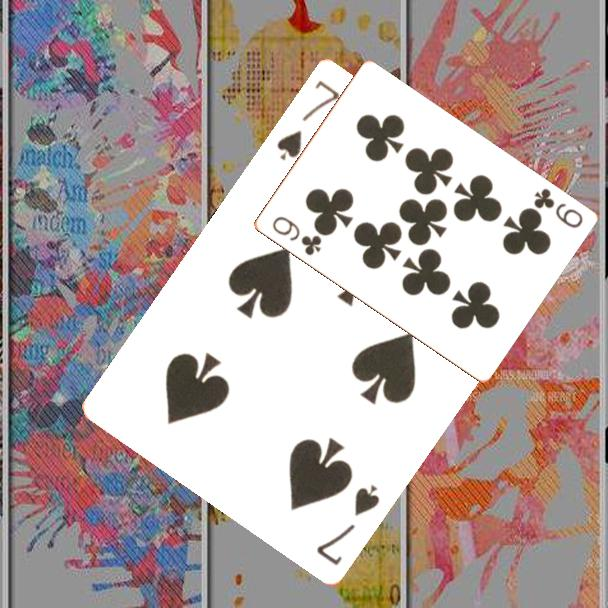c09: (268, 213, 324, 259), (530, 185, 586, 231)
s07: (312, 480, 383, 568), (273, 76, 343, 163)
